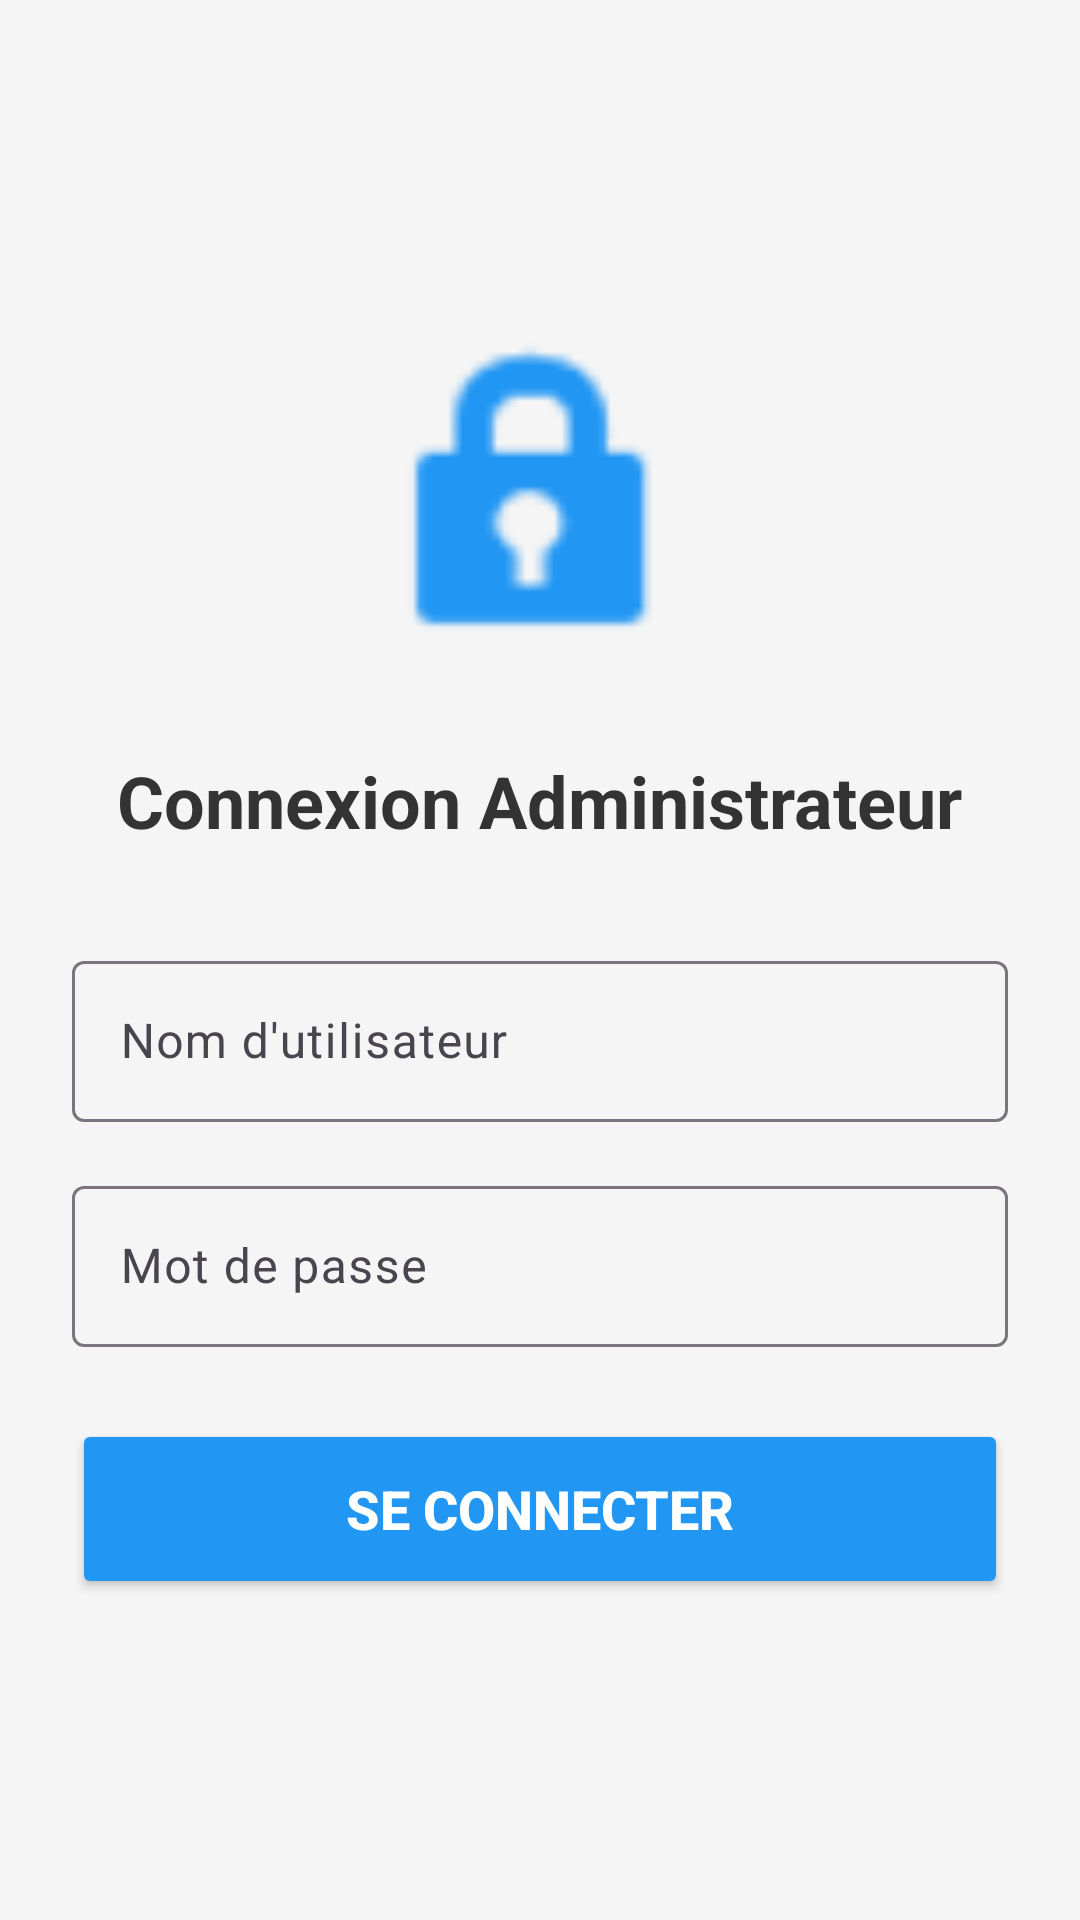

Screen size 1080x1920. Icon name, then its center in pixels as point (x, y):
lock idle: point (531, 488)
